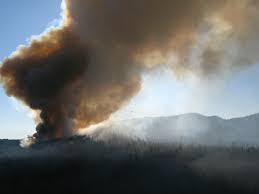smoke: (1, 0, 259, 149)
